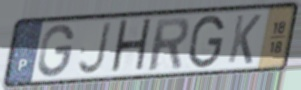G: (36, 23, 77, 80), (186, 14, 226, 71)
H: (108, 16, 154, 77)
J: (76, 20, 113, 77)
K: (225, 13, 264, 66)
R: (146, 16, 191, 73)
